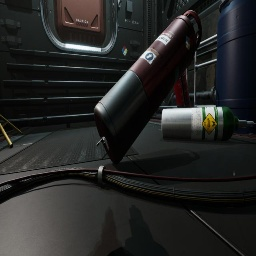0: (162, 106, 256, 141), (96, 136, 109, 159)
FireExtinguisher ]: (174, 70, 191, 108)
NitrogenTank ,: (94, 10, 202, 165)
